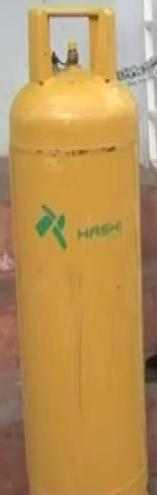cylinder: (1, 1, 157, 495)
